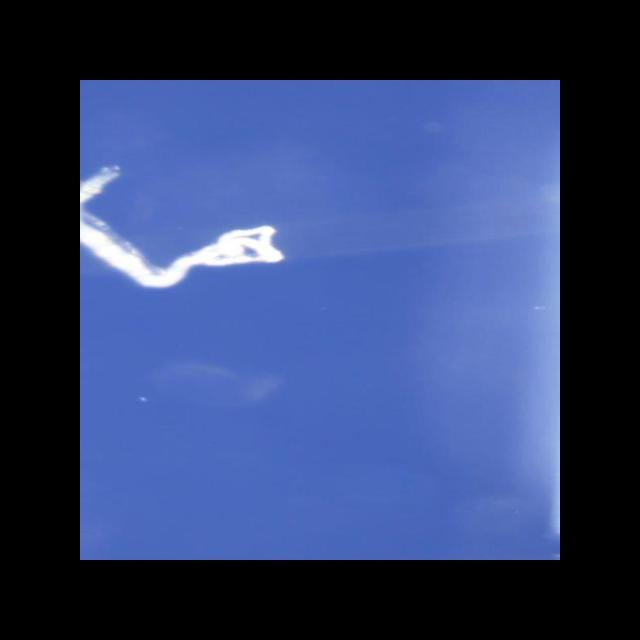Fibre: (80, 165, 286, 288)
